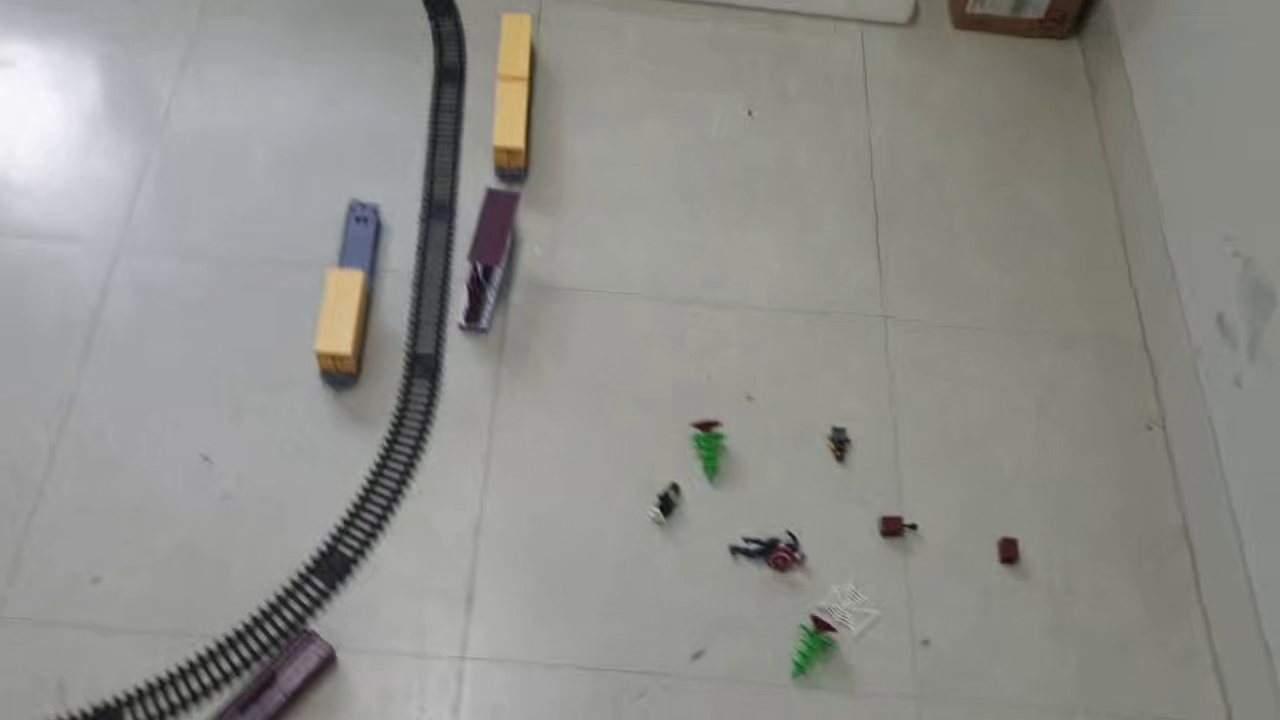box: (874, 515, 910, 541), (995, 537, 1021, 566)
people: (727, 531, 809, 572), (650, 482, 681, 527), (828, 425, 854, 467)
tree: (785, 613, 839, 684), (689, 418, 728, 487)
web: (810, 574, 882, 641)
